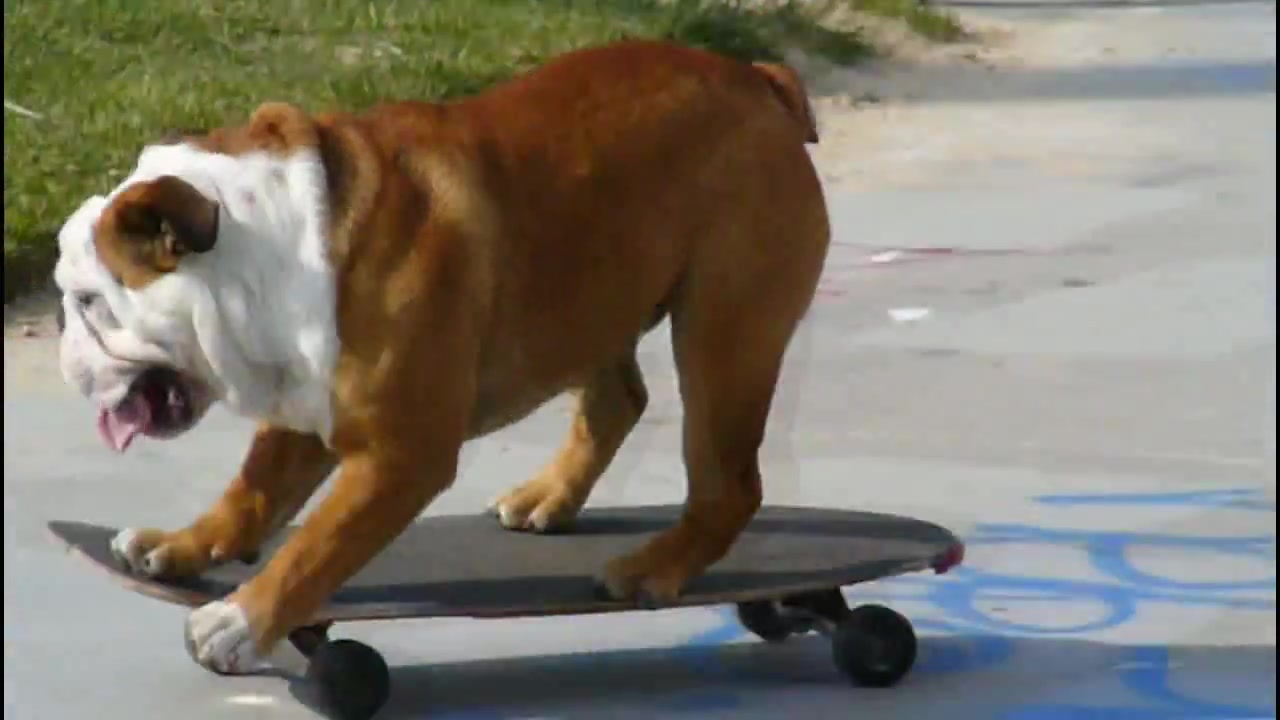dog: (50, 38, 834, 677)
